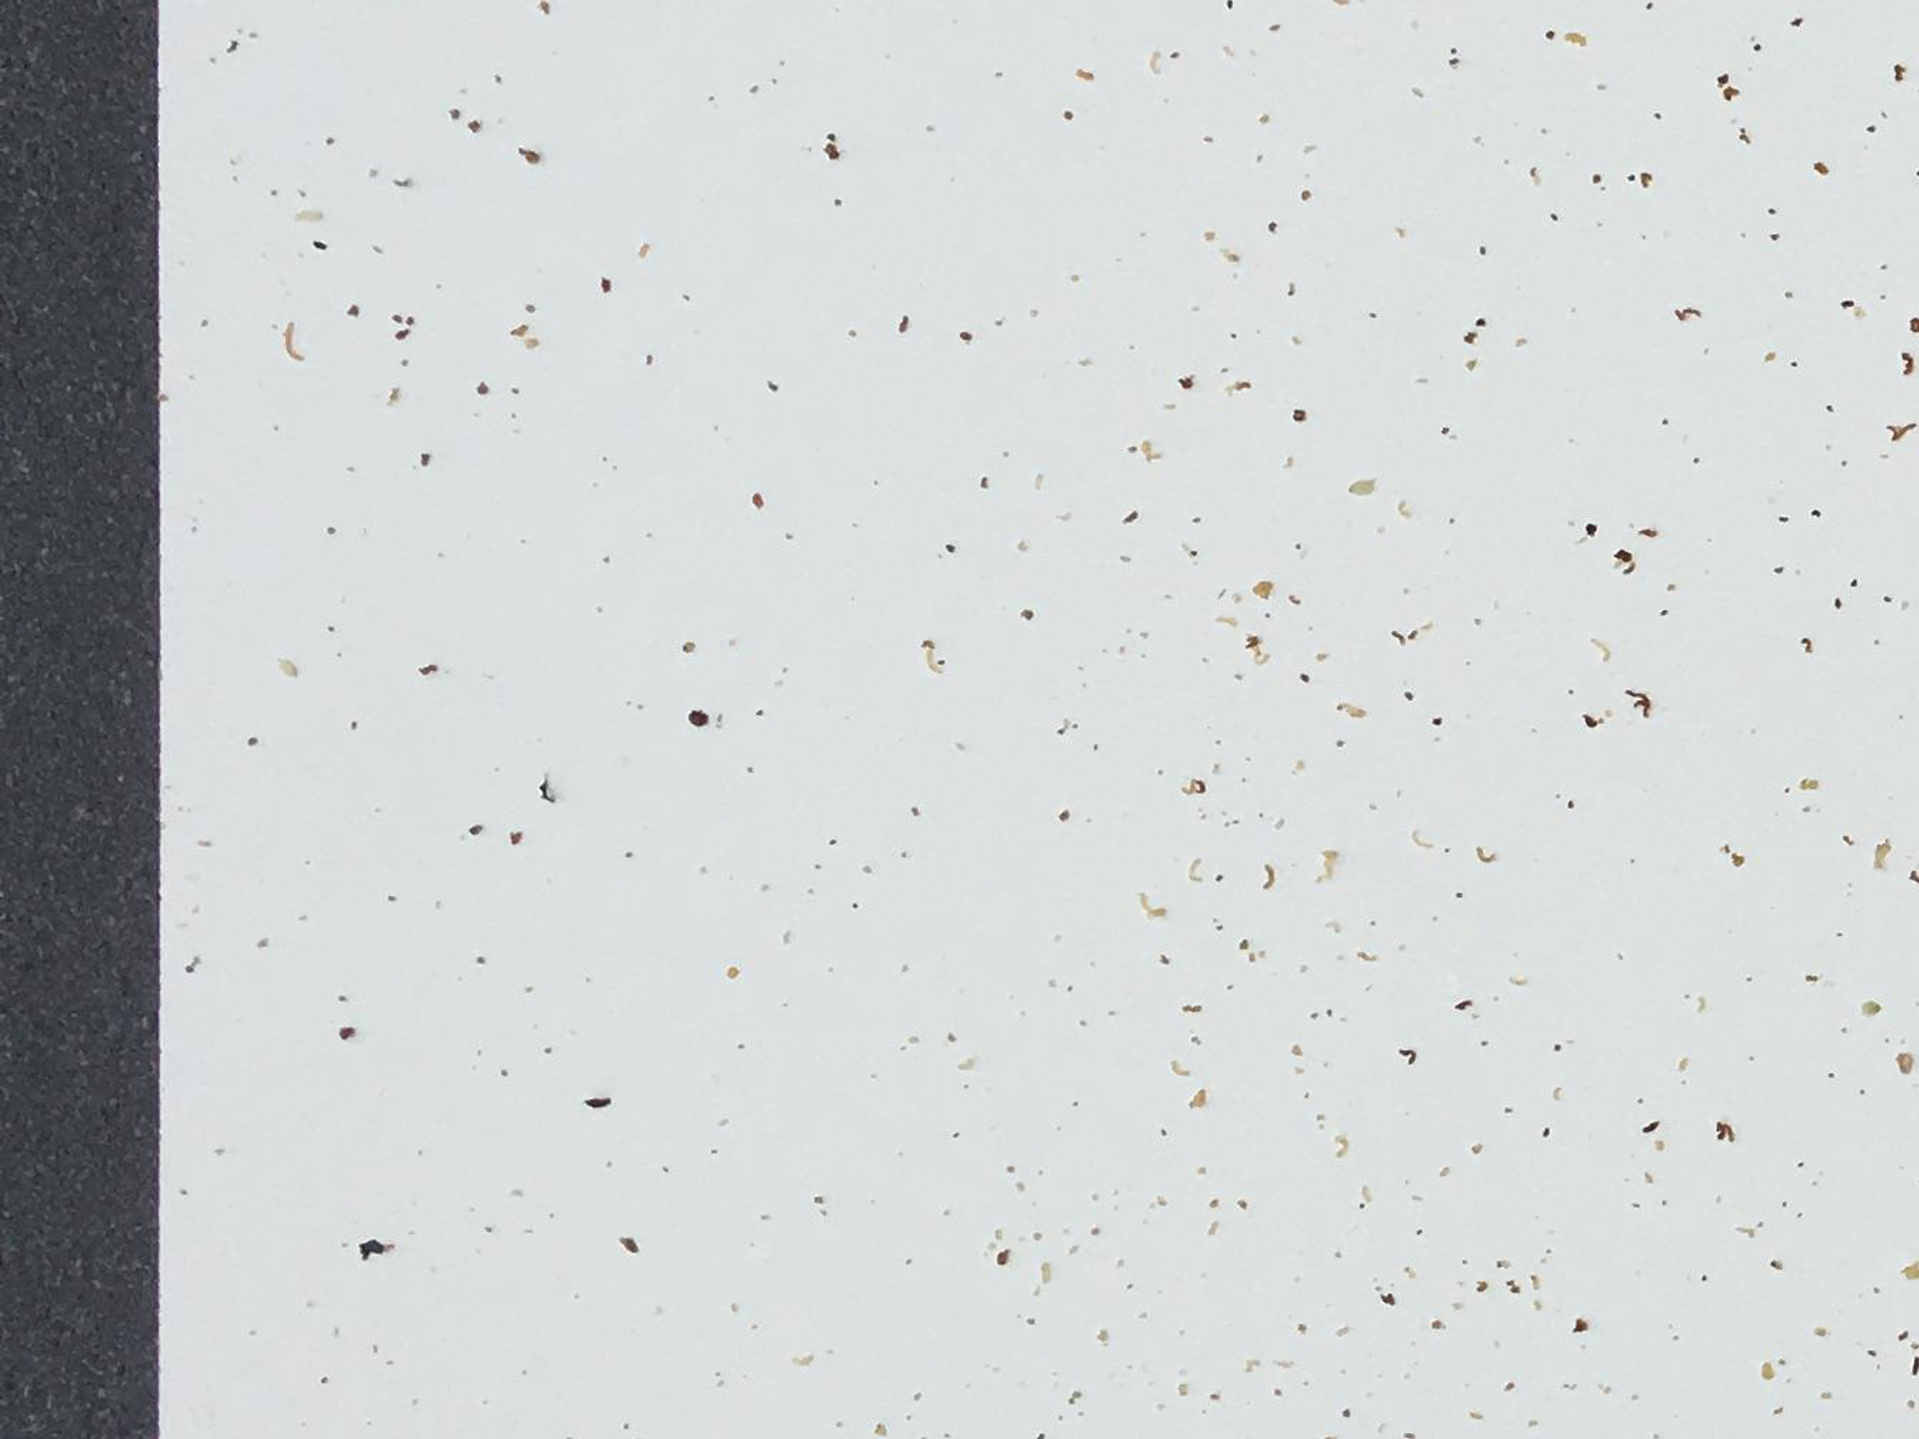Varroa: (675, 695, 718, 739)
